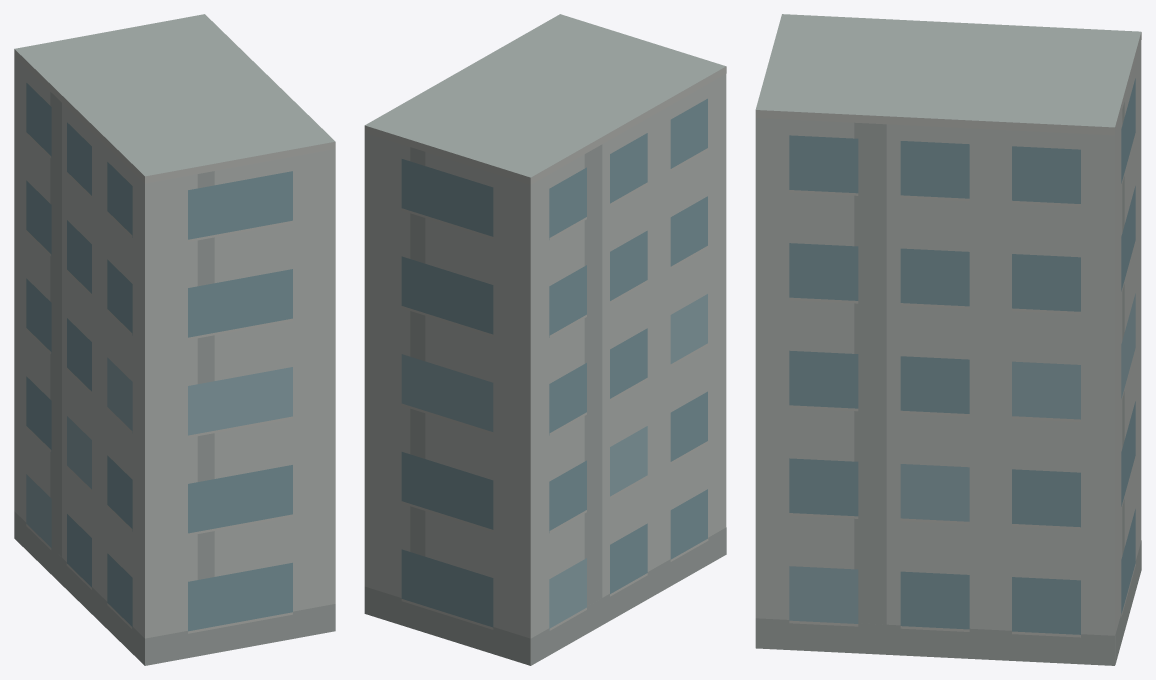
File: survey-upis-32547632.glb
The picture shows the model from 3 angles, left to right: view 1: azimuth 30°, elevation 25°; view 2: azimuth 150°, elevation 25°; view 3: azimuth 270°, elevation 25°; orthographic projection. The views are drawn at different scales.
Visible parts, largest first — view 1: survey-upis-32547632.tmp; view 2: survey-upis-32547632.tmp; view 3: survey-upis-32547632.tmp.
Boxes of the visible parts, x1,y1,x2,y2 form: survey-upis-32547632.tmp: [14, 14, 335, 665]; survey-upis-32547632.tmp: [364, 14, 726, 665]; survey-upis-32547632.tmp: [755, 14, 1141, 665].
Size of the model in its own units: 7.37 by 16.3 by 10.6.
